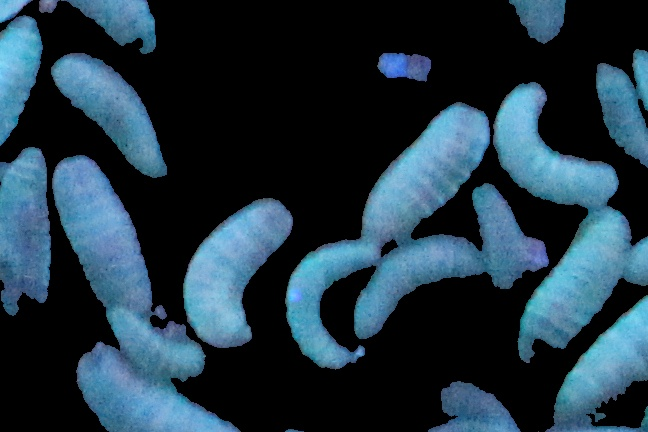larvae: (360, 102, 491, 242), (516, 208, 633, 364), (50, 153, 156, 318), (184, 198, 293, 352), (490, 82, 617, 208), (51, 56, 167, 181), (351, 236, 484, 341), (76, 345, 234, 432), (552, 298, 648, 432), (285, 239, 376, 373), (107, 307, 208, 393), (1, 150, 48, 318), (588, 63, 648, 173), (39, 1, 158, 51), (1, 16, 39, 152)
